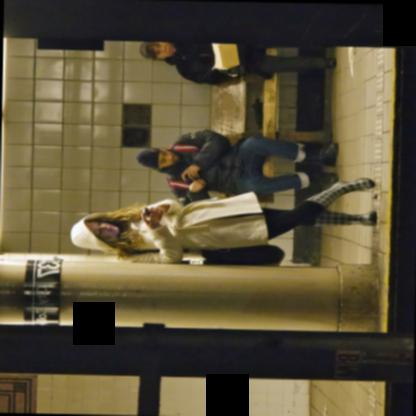backpack: (165, 141, 201, 188)
handbag: (180, 244, 284, 265)
